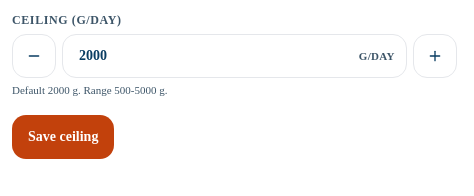
Test: DeviceDailyCapForm › rejects a fractional ceiling
Step 1. Replace the text in the number field labelled "Ceiling (g/day)" with "2000.5" → (234, 56), box [62,34,407,78]
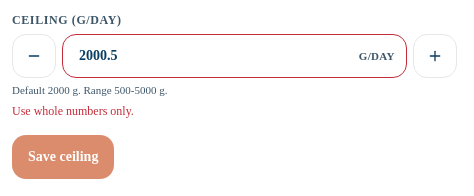
Result: the message reads "Use whole numbers only." at [12,104,134,118]
